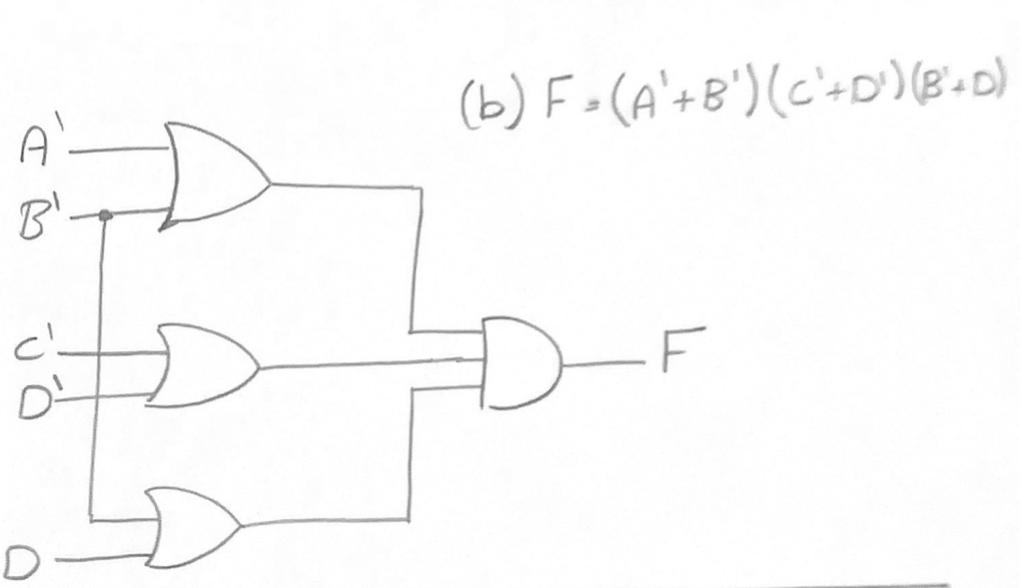AND: (454, 287, 578, 424)
OR: (154, 119, 286, 242), (144, 310, 279, 415), (118, 482, 254, 578)
